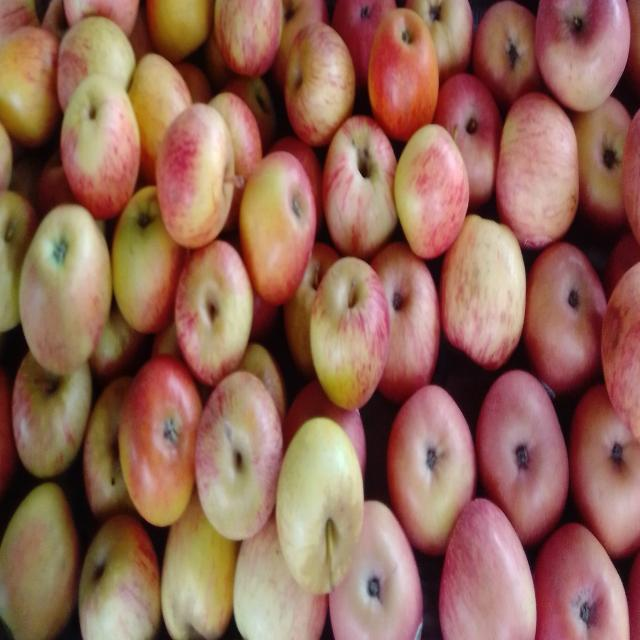Fresh Apple: (477, 365, 575, 530), (15, 212, 108, 378), (114, 364, 208, 518), (228, 140, 314, 308), (275, 435, 370, 587), (443, 496, 539, 640), (442, 225, 542, 363), (385, 393, 477, 540), (492, 100, 582, 238), (313, 265, 402, 400), (157, 110, 243, 245), (198, 390, 284, 518), (55, 92, 147, 203), (398, 130, 475, 243), (325, 121, 392, 242)
